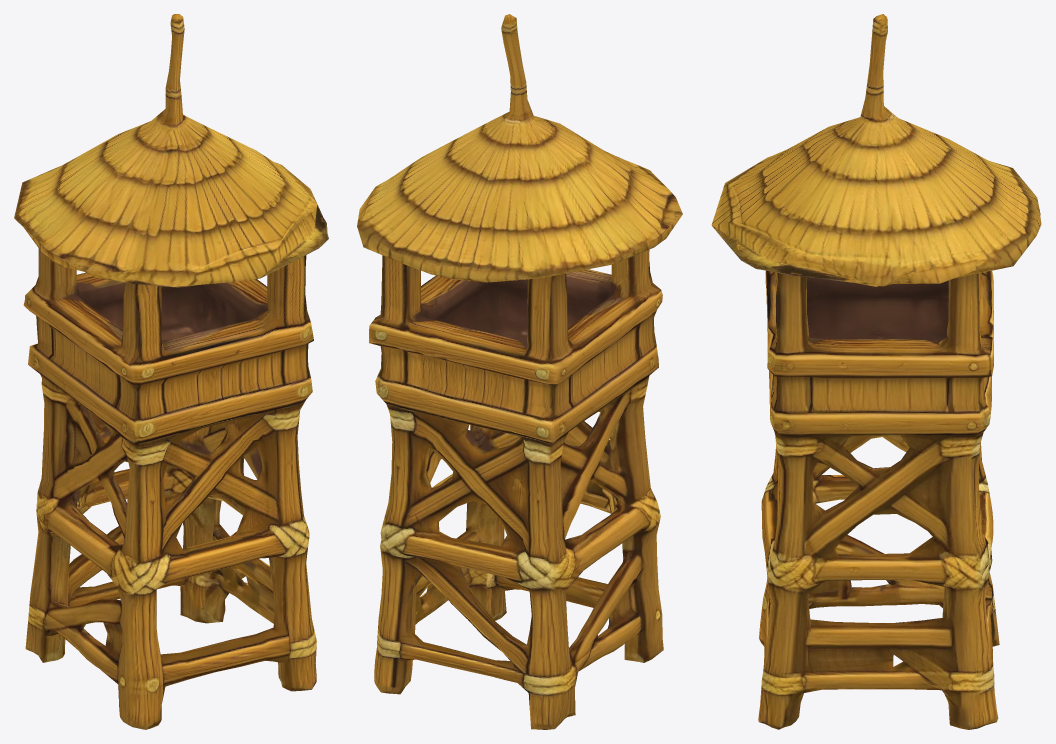
The model's file is tower.glb.
The picture shows the model from 3 angles, left to right: view 1: azimuth 30°, elevation 25°; view 2: azimuth 150°, elevation 25°; view 3: azimuth 270°, elevation 25°; orthographic projection. The views are drawn at different scales.
Bounding box in the file's own units: 0.8581 × 2 × 0.8906.
Materials: 1 (1 with a texture image).
